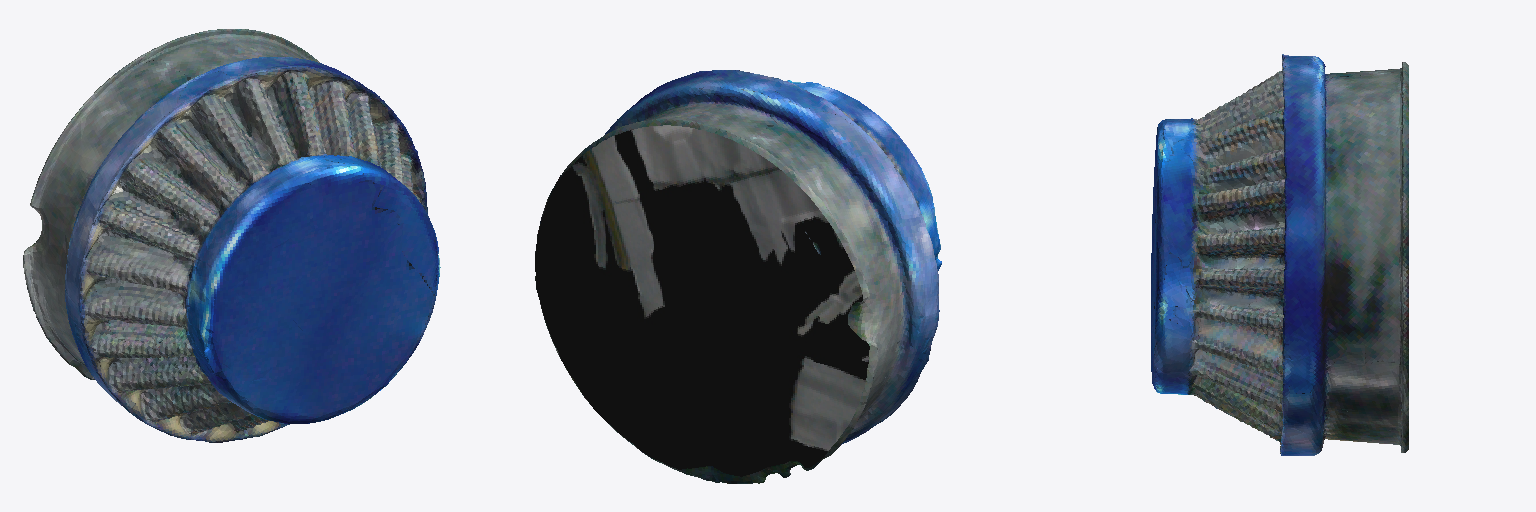
3 views of the same model, side by side, from view 1: azimuth 30°, elevation 25°; view 2: azimuth 150°, elevation 25°; view 3: azimuth 270°, elevation 25° (orthographic).
Parts seen in each view (by area): view 1: cap2; view 2: cap2; view 3: cap2.
Part boxes in pixels (left/top/right/bottom): cap2: left=23, top=29, right=440, bottom=442; cap2: left=535, top=70, right=941, bottom=483; cap2: left=1151, top=54, right=1408, bottom=455.
Bounding box in the file's own units: 0.074 × 0.074 × 0.0475.
1 materials, 1 textured.